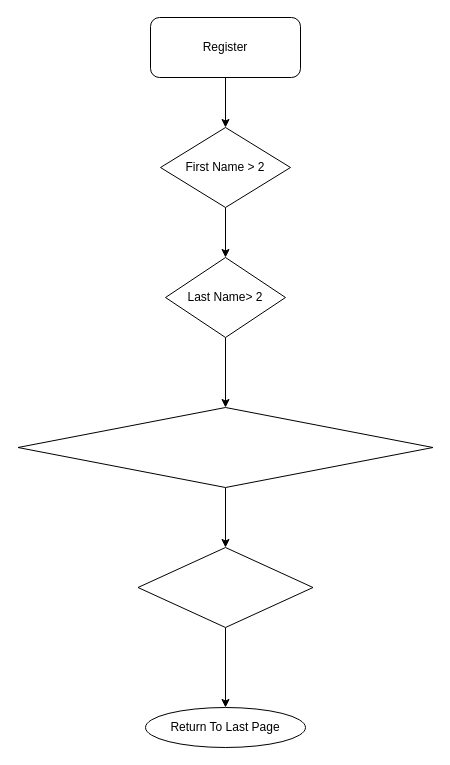
Some shapes in this 450 by 765 pixel diagram are drawn without their labels. The shapes that lost their labels are listed below. From the top down, each one's centre as x and y in pixels, then its label:
At point 225,447: "Password pass Regex ---> [^(?=.*\d)(?=.*[a-z])(?=.*[A-Z])(?=.*[a-zA-Z]).{8,}$]".
At point 225,587: "PhoneNumber correct ?".
